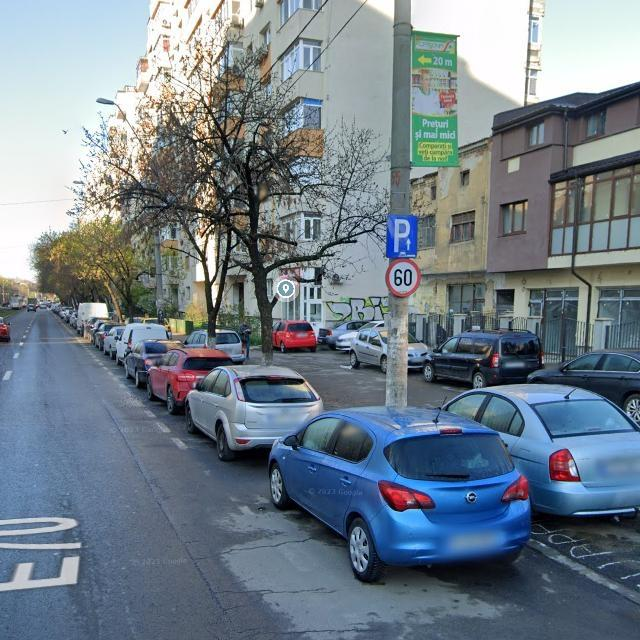forb_speed_over_60: (386, 258, 421, 296)
